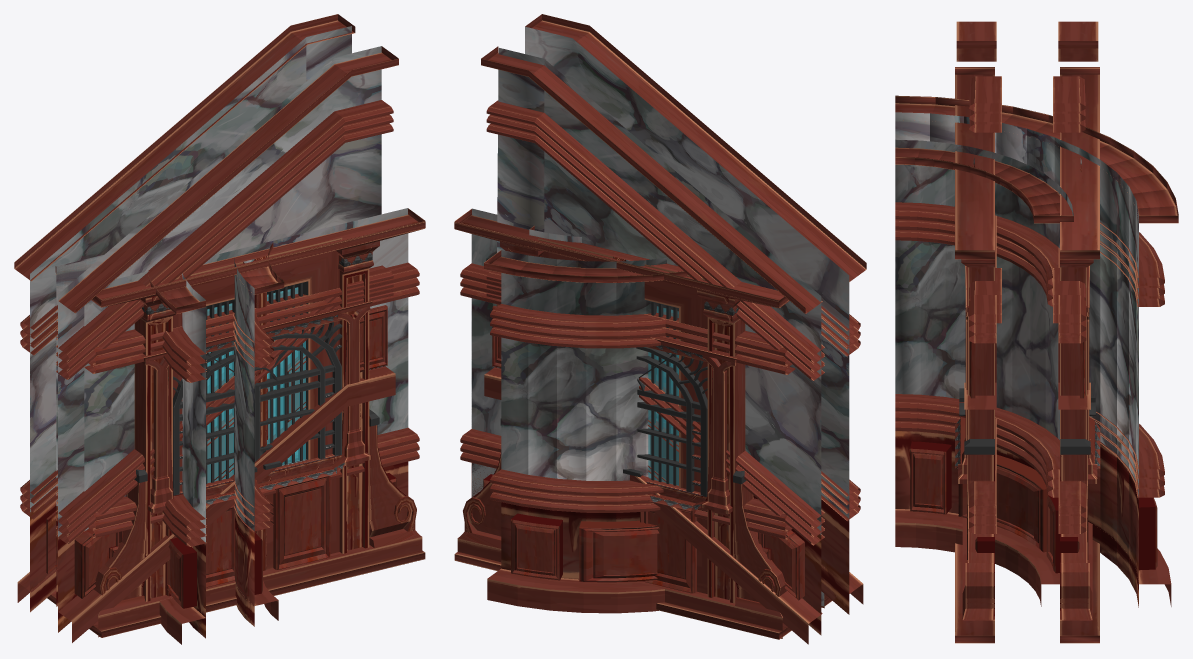
Rendered from MKL_Walls.fbx.
3 views of the same model, side by side, from view 1: azimuth 30°, elevation 25°; view 2: azimuth 150°, elevation 25°; view 3: azimuth 270°, elevation 25° (orthographic). The views are drawn at different scales.
Visible parts, largest first — view 1: MKL_WallStairsDiagonal, MKL_WallDoor, MKL_WallWindow, MKL_WallSquareCurve, MKL_WallSquare, MKL_WallSquareFitting; view 2: MKL_WallStairsDiagonal, MKL_WallSquareCurve, MKL_WallDoor, MKL_WallWindow, MKL_WallSquareFitting; view 3: MKL_WallSquareCurve, MKL_WallDoor, MKL_WallSquareFitting, MKL_WallStairsDiagonal, MKL_WallWindow, MKL_WallSquare.
Part boxes in pixels (x1,y1,x2,y2): MKL_WallStairsDiagonal: [14, 14, 398, 642]; MKL_WallDoor: [56, 228, 424, 637]; MKL_WallWindow: [56, 220, 425, 636]; MKL_WallSquareCurve: [148, 242, 284, 644]; MKL_WallSquare: [56, 209, 425, 636]; MKL_WallSquareFitting: [47, 208, 425, 637]; MKL_WallStairsDiagonal: [481, 14, 866, 644]; MKL_WallSquareCurve: [484, 226, 687, 613]; MKL_WallDoor: [454, 223, 824, 638]; MKL_WallWindow: [454, 222, 794, 638]; MKL_WallSquareFitting: [454, 208, 832, 639]; MKL_WallSquareCurve: [895, 95, 1178, 607]; MKL_WallDoor: [959, 158, 1095, 619]; MKL_WallSquareFitting: [955, 67, 1099, 643]; MKL_WallStairsDiagonal: [956, 21, 1098, 409]; MKL_WallWindow: [955, 68, 1100, 620]; MKL_WallSquare: [955, 68, 1099, 620].
Bounding box in the file's own units: 2.16 × 3 × 1.31.
